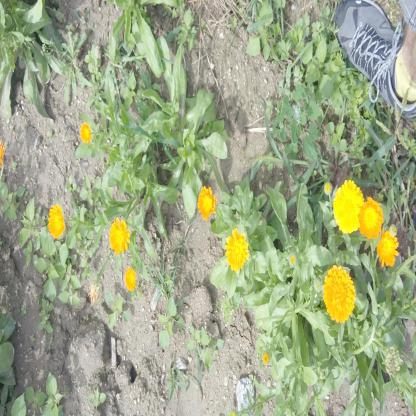marigold: (324, 266, 355, 320), (333, 180, 363, 234), (224, 228, 249, 270), (360, 200, 382, 238), (108, 220, 130, 253), (378, 231, 398, 267), (47, 203, 66, 238), (198, 185, 216, 219), (80, 121, 92, 144), (125, 266, 136, 290)
